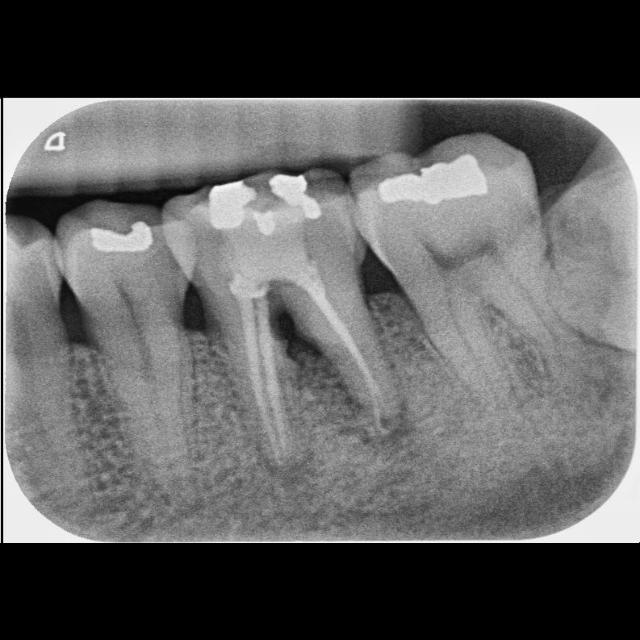tooth: (57, 200, 198, 491)
